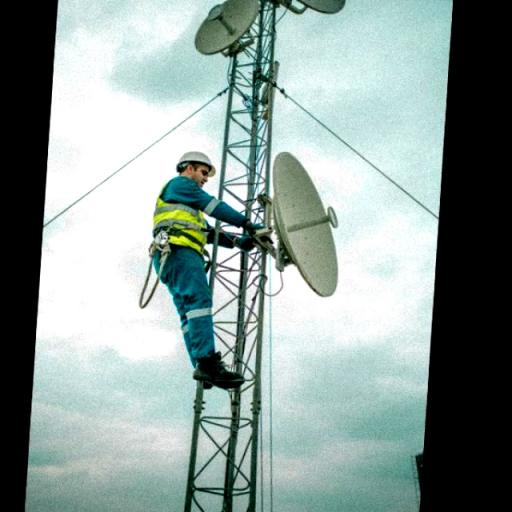Person: (156, 135, 290, 411)
boots: (194, 351, 247, 388)
gloves: (244, 213, 273, 236), (233, 235, 260, 252)
helmet: (178, 144, 218, 176)
none: (184, 166, 217, 176)
vest: (152, 179, 210, 249)
